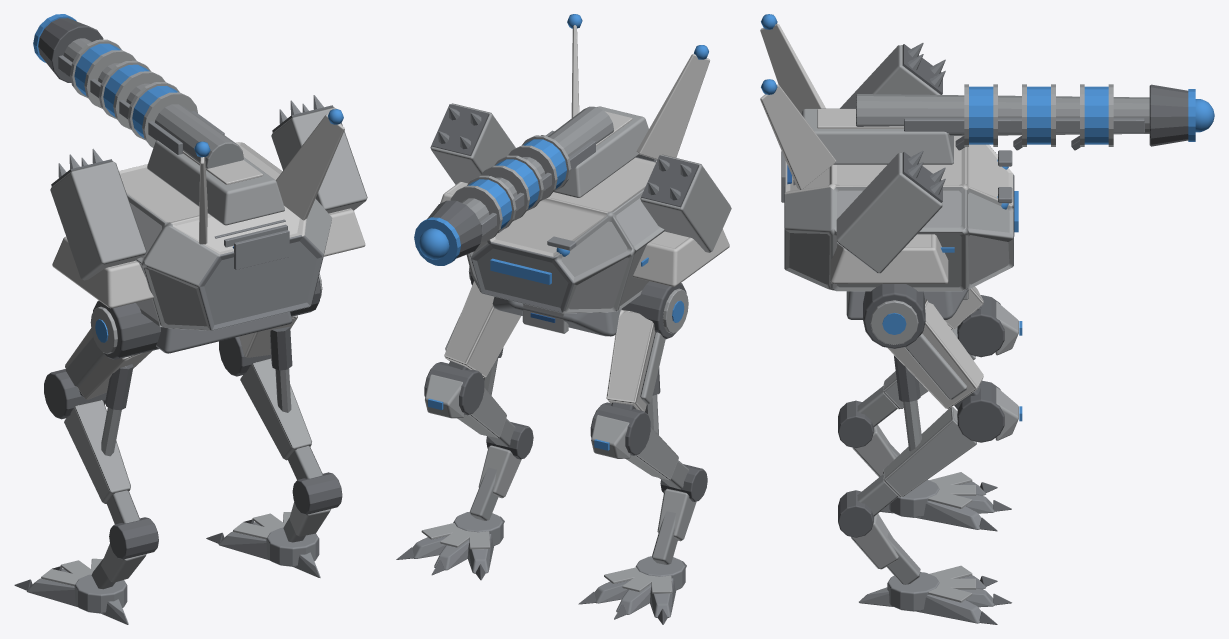
File: lattice_experimental.glb
The picture shows the model from 3 angles, left to right: view 1: azimuth 30°, elevation 25°; view 2: azimuth 150°, elevation 25°; view 3: azimuth 270°, elevation 25°; orthographic projection. The views are drawn at different scales.
Parts seen in each view (by area): view 1: Turret, Body; view 2: Turret, Body; view 3: Turret, Body.
Part boxes in pixels (<box>): Turret: <box>33,14,367,330</box>; Body: <box>14,273,342,624</box>; Turret: <box>414,14,731,313</box>; Body: <box>396,266,707,624</box>; Turret: <box>760,14,1214,291</box>; Body: <box>838,284,1022,624</box>.
Size of the model in its own units: 1.35 by 2.34 by 1.89.
